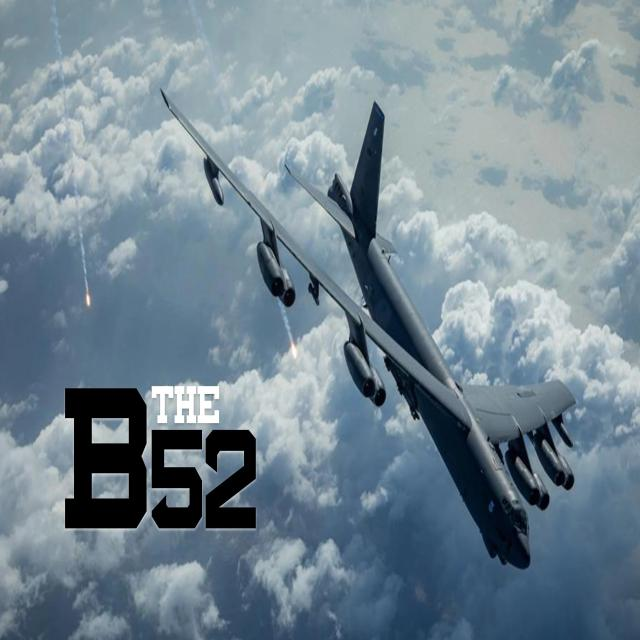B52: (152, 64, 622, 614)
